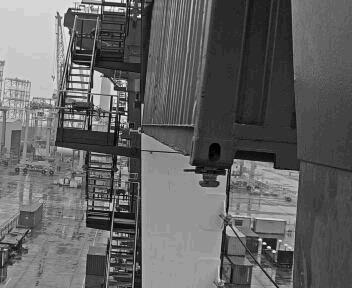twist_lock_1: (174, 167, 225, 207)
